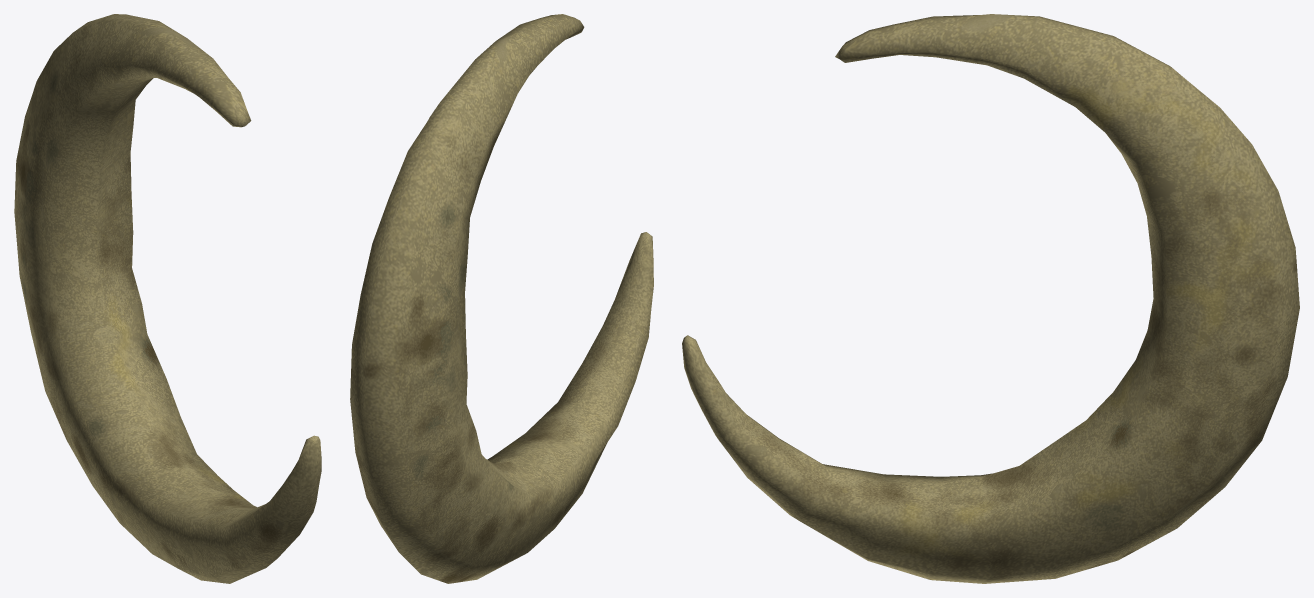
File: moon_v2.gltf
The picture shows the model from 3 angles, left to right: view 1: azimuth 30°, elevation 25°; view 2: azimuth 150°, elevation 25°; view 3: azimuth 270°, elevation 25°; orthographic projection. The views are drawn at different scales.
Visible parts, largest first — view 1: Crescent; view 2: Crescent; view 3: Crescent.
Part boxes in pixels (x1=…): Crescent: x1=14, y1=14, x2=321, y2=583; Crescent: x1=350, y1=14, x2=653, y2=583; Crescent: x1=682, y1=14, x2=1299, y2=583.
Bounding box in the file's own units: 0.175 × 0.9793 × 0.9622.
1 material, 1 textured.
